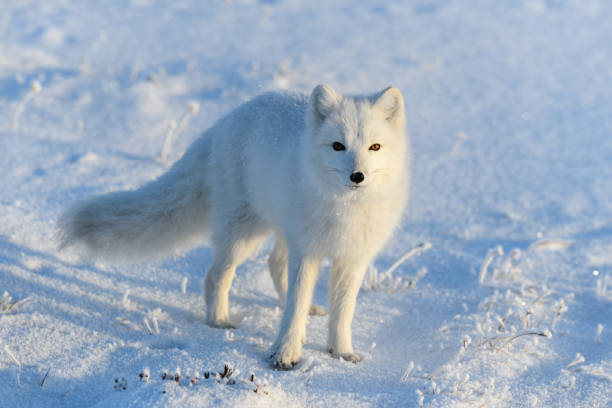arcticfox: (316, 89, 402, 222)
